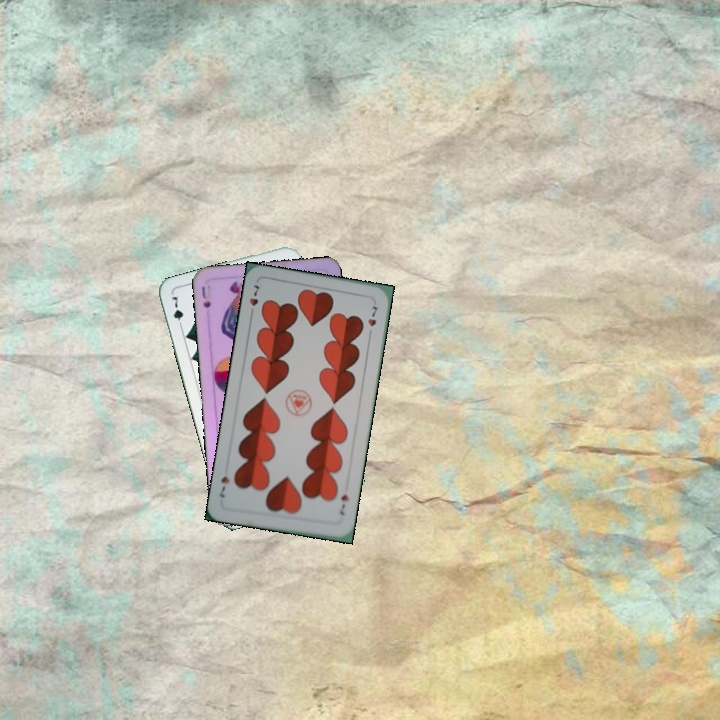G7: (167, 292, 186, 332)
H7: (245, 281, 262, 319), (336, 490, 351, 517)
SU: (197, 282, 213, 311)
